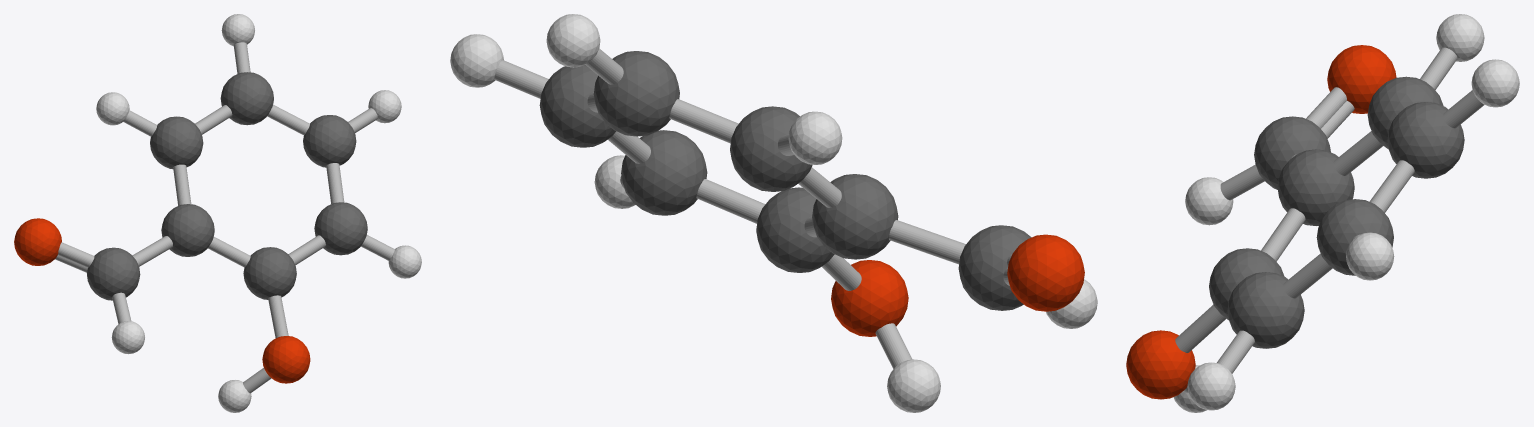
The model's file is O_Cc1ccccc1O.glb.
3 views of the same model, side by side, from view 1: azimuth 30°, elevation 25°; view 2: azimuth 150°, elevation 25°; view 3: azimuth 270°, elevation 25° (orthographic). The views are drawn at different scales.
Visible parts, largest first — view 1: world; view 2: world; view 3: world.
Part boxes in pixels (x1,y1,x2,y2): world: (14, 14, 421, 412); world: (450, 14, 1097, 412); world: (1126, 14, 1519, 412).
Size of the model in its own units: 6.65 by 4.85 by 4.07.
